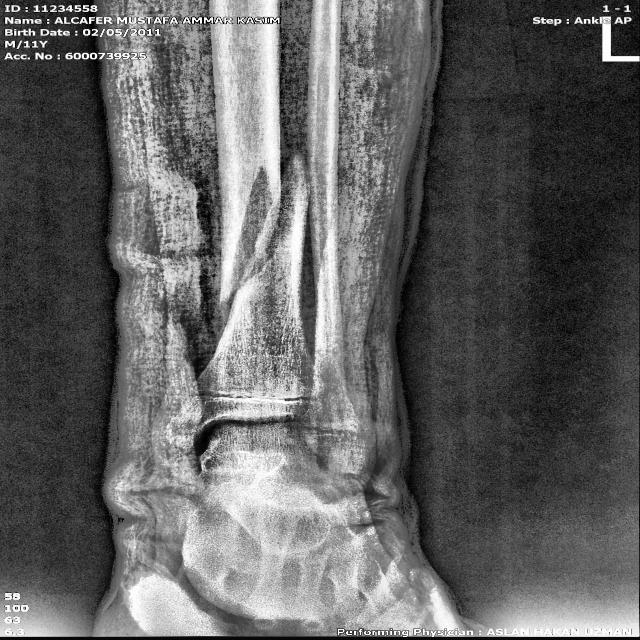Fracture: (206, 138, 334, 334)
